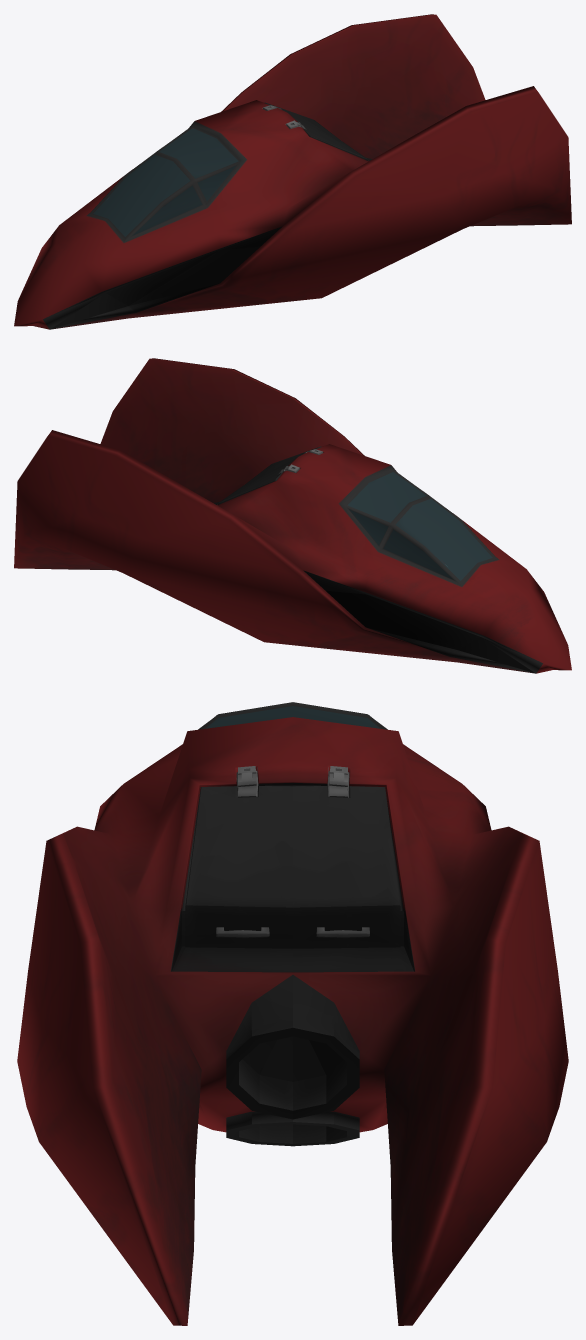
Rendered from firstCarAgain.fbx.
3 renders of one model, top to bottom at view 1: azimuth 30°, elevation 25°; view 2: azimuth 150°, elevation 25°; view 3: azimuth 270°, elevation 25°, orthographic. The views are drawn at different scales.
Visible parts, largest first — view 1: car006; view 2: car006; view 3: car006.
Part boxes in pixels (left/top/right/bottom): car006: left=14, top=14, right=571, bottom=329; car006: left=14, top=358, right=571, bottom=673; car006: left=17, top=702, right=568, bottom=1325.
Bounding box in the file's own units: 3.26 × 1.16 × 1.47.
